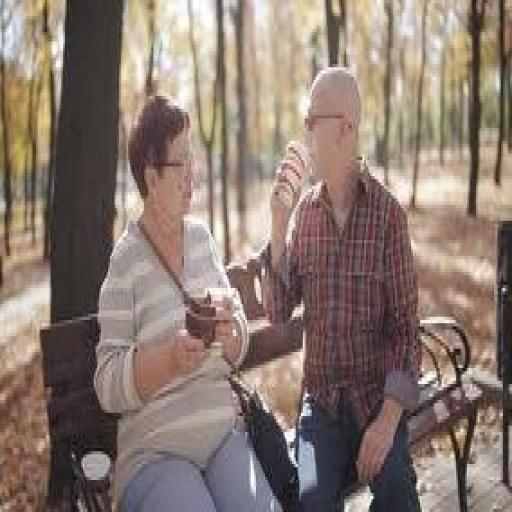sitting: (92, 60, 425, 506)
